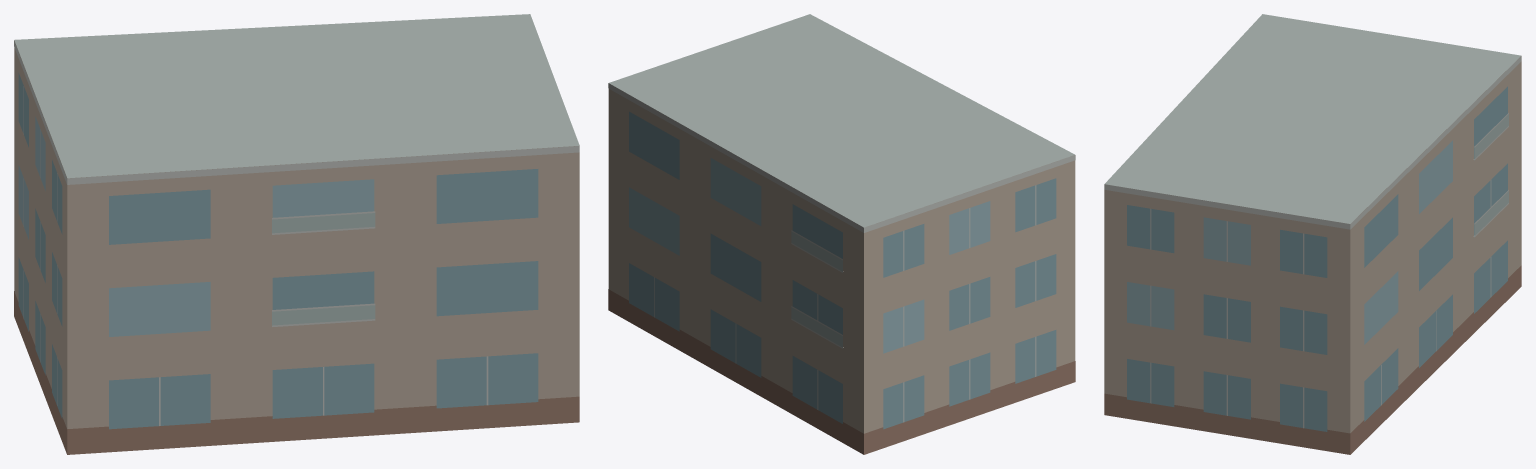
Rendered from survey-upis-32493097.glb.
The picture shows the model from 3 angles, left to right: view 1: azimuth 30°, elevation 25°; view 2: azimuth 150°, elevation 25°; view 3: azimuth 270°, elevation 25°; orthographic projection. The views are drawn at different scales.
Visible parts, largest first — view 1: survey-upis-32493097.tmp; view 2: survey-upis-32493097.tmp; view 3: survey-upis-32493097.tmp.
Boxes of the visible parts, x1,y1,x2,y2 form: survey-upis-32493097.tmp: (14, 14, 579, 454); survey-upis-32493097.tmp: (608, 14, 1075, 454); survey-upis-32493097.tmp: (1104, 14, 1521, 454).
Bounding box in the file's own units: 19.71 × 10.1 × 16.55.
